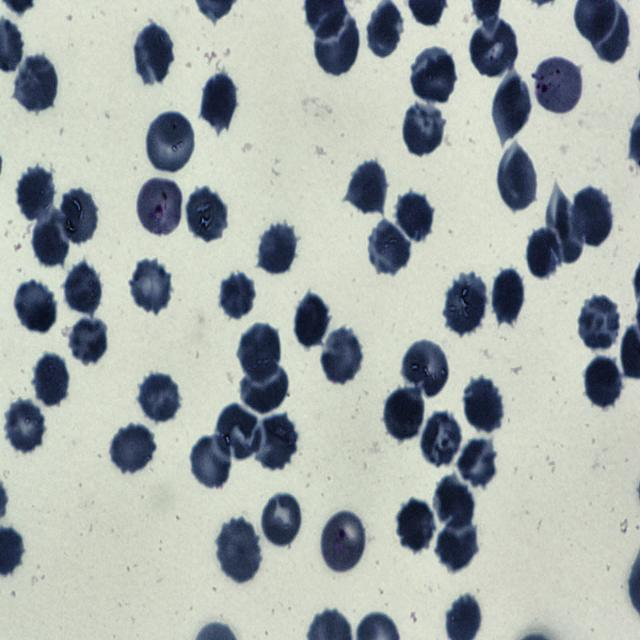red blood cell: (146, 109, 197, 176), (544, 183, 584, 264), (215, 519, 262, 584), (314, 13, 361, 77), (468, 21, 519, 78), (409, 46, 458, 104), (402, 340, 451, 398), (497, 145, 539, 211), (237, 364, 291, 414), (492, 73, 532, 140), (444, 274, 486, 336), (260, 490, 304, 548), (368, 218, 412, 276), (576, 295, 622, 350), (216, 405, 262, 460), (3, 397, 47, 454), (133, 24, 174, 85), (128, 258, 174, 312), (321, 328, 364, 385), (200, 71, 238, 135), (238, 325, 282, 380), (14, 56, 58, 111), (189, 435, 233, 490), (185, 187, 228, 243), (421, 411, 464, 467), (110, 421, 156, 473), (60, 185, 99, 246), (573, 188, 614, 246), (402, 103, 447, 155), (256, 415, 298, 470), (384, 387, 426, 441), (438, 518, 480, 572), (458, 438, 500, 492), (32, 209, 71, 267), (463, 378, 504, 433), (436, 475, 476, 531), (14, 280, 56, 333), (137, 370, 181, 420), (584, 356, 624, 410), (15, 166, 55, 220), (64, 261, 103, 316), (492, 266, 526, 327), (398, 498, 435, 554), (348, 161, 387, 214), (295, 292, 331, 349), (396, 190, 434, 244), (69, 316, 109, 366), (258, 224, 298, 274), (367, 1, 402, 57), (34, 353, 70, 407), (526, 228, 562, 280), (221, 270, 256, 320)
ring: (319, 509, 368, 574), (136, 175, 184, 238), (534, 56, 584, 116)
